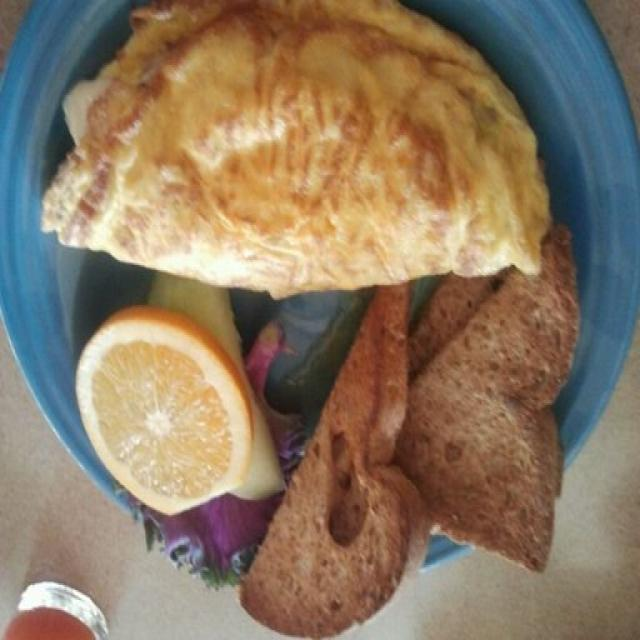telur_ayam_dadar: (40, 2, 552, 304)
